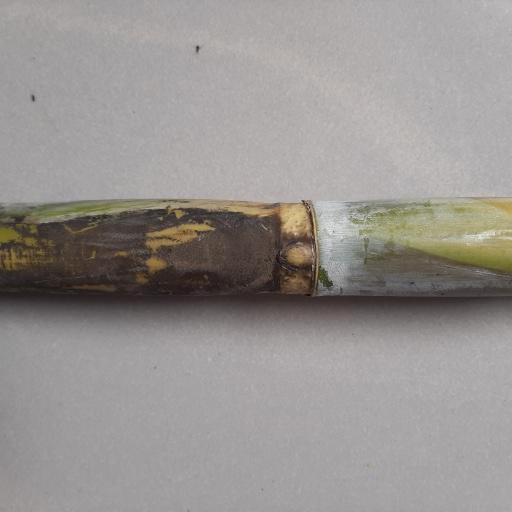Bud: (276, 237, 316, 271)
